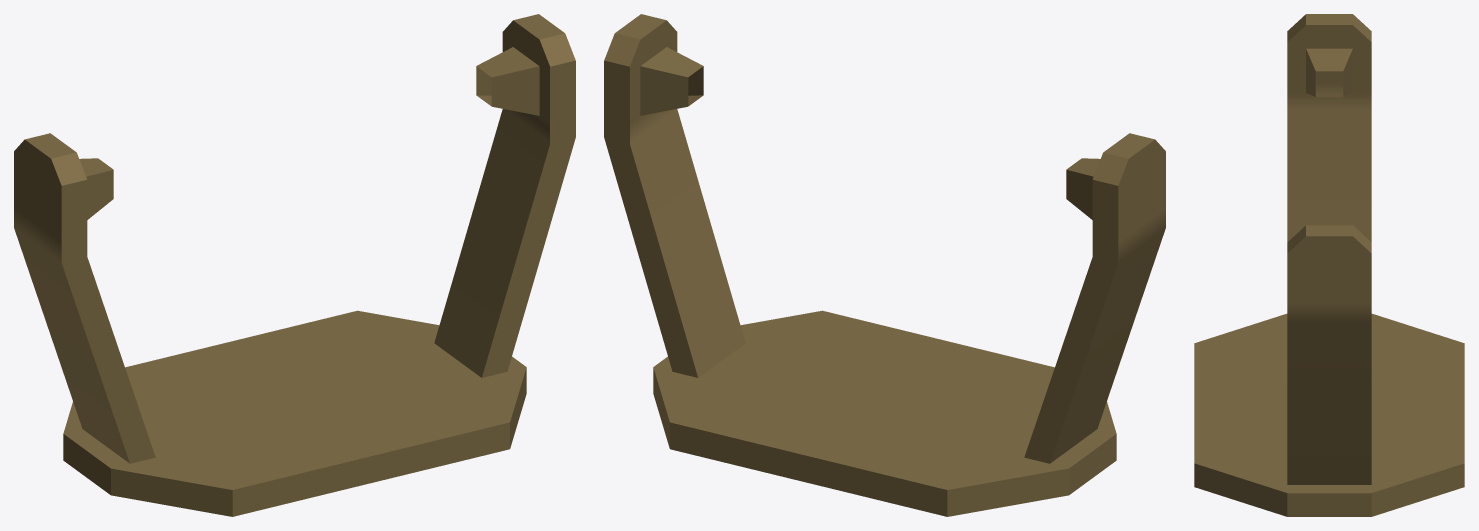
Rendered from SM_Spotlight_Base.fbx.
3 views of the same model, side by side, from view 1: azimuth 30°, elevation 25°; view 2: azimuth 150°, elevation 25°; view 3: azimuth 270°, elevation 25° (orthographic). The views are drawn at different scales.
Visible parts, largest first — view 1: SM_Spotlight_Base; view 2: SM_Spotlight_Base; view 3: SM_Spotlight_Base.
Part boxes in pixels (bbox=[...]): SM_Spotlight_Base: bbox=[14, 14, 575, 516]; SM_Spotlight_Base: bbox=[604, 14, 1165, 516]; SM_Spotlight_Base: bbox=[1194, 14, 1464, 516].
Size of the model in its own units: 97.26 by 61.62 by 50.
